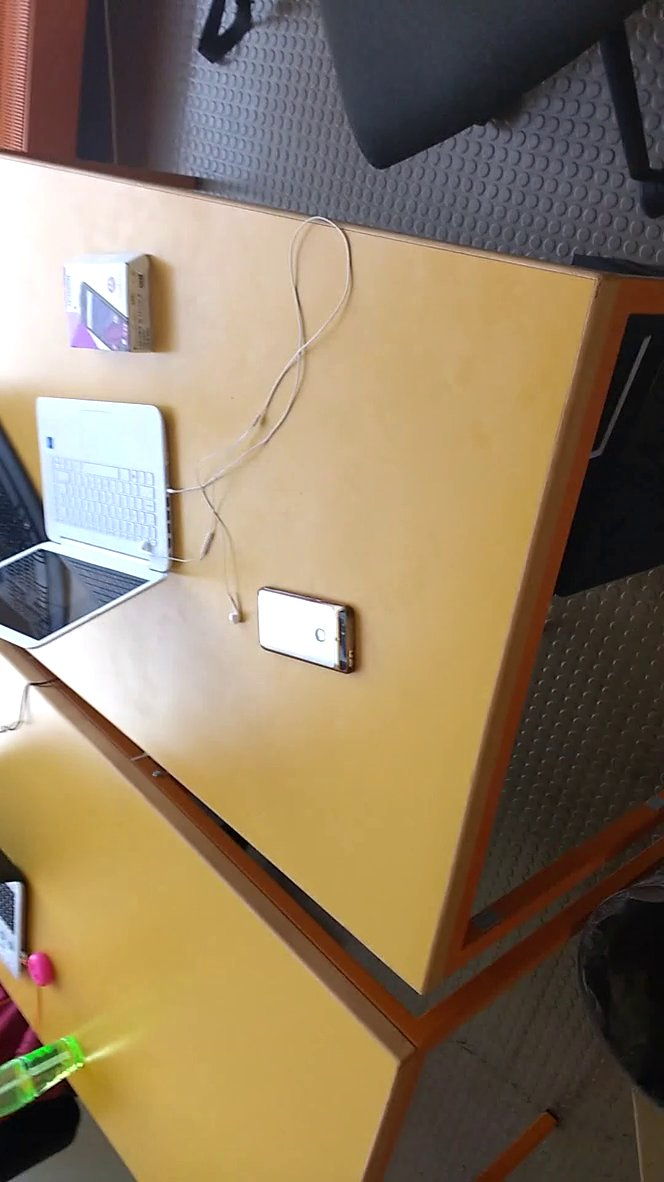phone: (251, 570, 369, 692)
